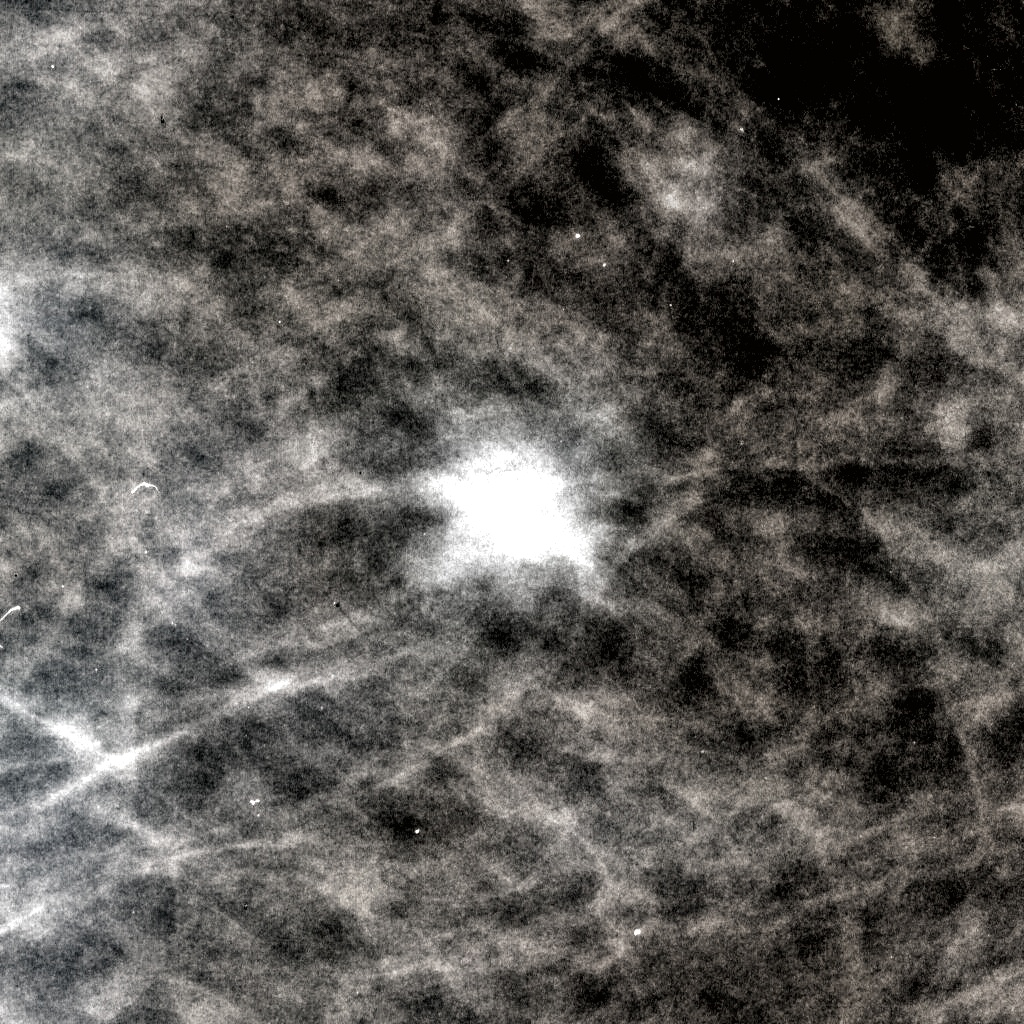tumor: (402, 411, 622, 613)
